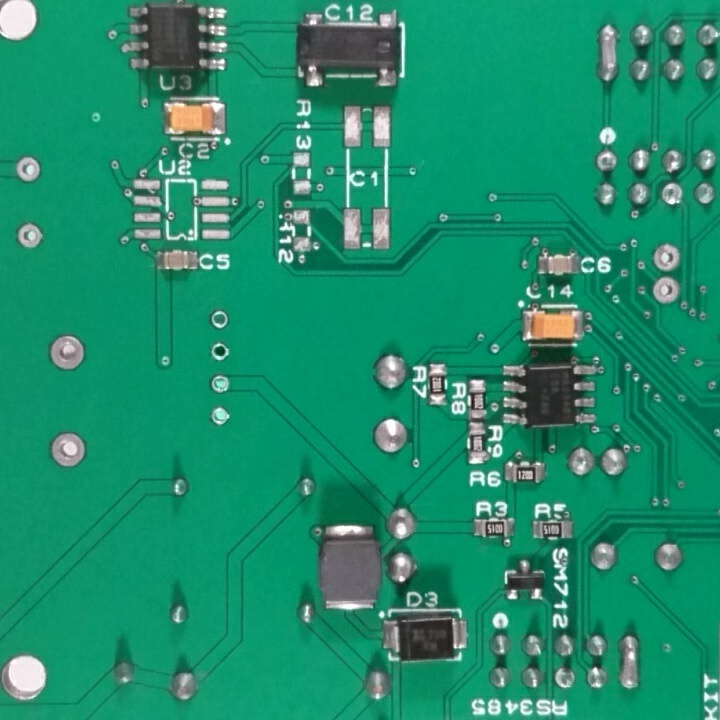F: (47, 329, 88, 380), (49, 428, 90, 472), (649, 239, 684, 272), (14, 219, 46, 254), (650, 275, 679, 309), (13, 155, 44, 184), (658, 181, 686, 211), (593, 146, 619, 176), (207, 400, 233, 429), (209, 370, 234, 399), (552, 665, 577, 692), (209, 337, 230, 365), (209, 308, 228, 332)
P: (593, 21, 621, 92), (619, 631, 644, 696)
